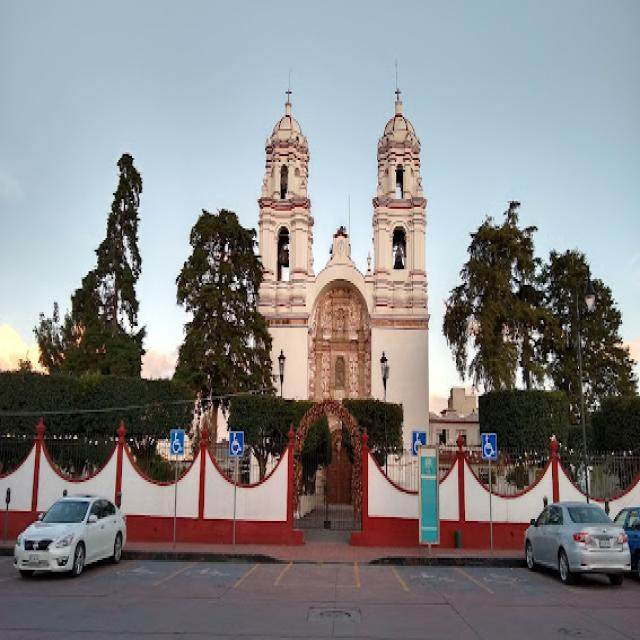discapacitados: (444, 422, 564, 596), (88, 416, 209, 587), (168, 419, 273, 600), (390, 417, 492, 601)
libre: (96, 417, 213, 579)
ocupado: (4, 484, 129, 589), (517, 485, 636, 592)
